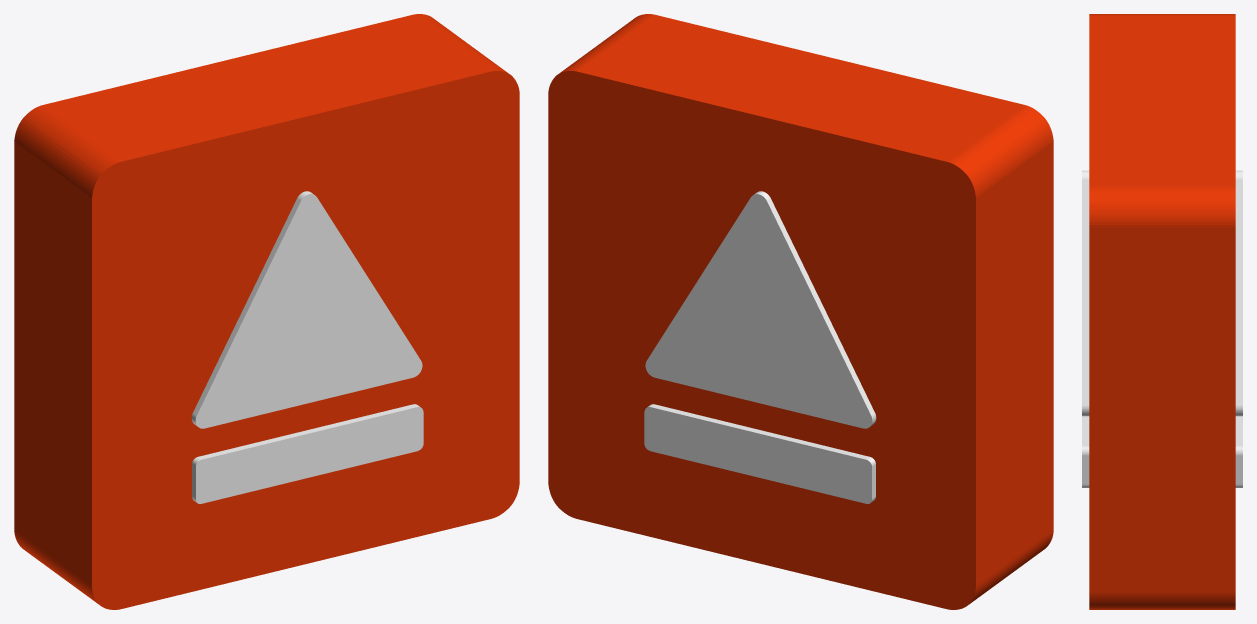
The picture shows the model from 3 angles, left to right: view 1: azimuth 30°, elevation 25°; view 2: azimuth 150°, elevation 25°; view 3: azimuth 270°, elevation 25°; orthographic projection. The views are drawn at different scales.
Parts seen in each view (by area): view 1: U+23CF_layer00_obj00, U+23CF_layer01_obj00, U+23CF_layer01_obj01; view 2: U+23CF_layer00_obj00, U+23CF_layer01_obj00, U+23CF_layer01_obj01; view 3: U+23CF_layer00_obj00, U+23CF_layer01_obj00, U+23CF_layer01_obj01.
Part boxes in pixels (<box>): U+23CF_layer00_obj00: <box>14,14,519,609</box>; U+23CF_layer01_obj00: <box>191,191,422,428</box>; U+23CF_layer01_obj01: <box>192,404,423,503</box>; U+23CF_layer00_obj00: <box>548,14,1053,609</box>; U+23CF_layer01_obj00: <box>645,191,876,428</box>; U+23CF_layer01_obj01: <box>644,404,875,503</box>; U+23CF_layer00_obj00: <box>1089,14,1235,609</box>; U+23CF_layer01_obj00: <box>1082,170,1242,416</box>; U+23CF_layer01_obj01: <box>1082,416,1242,487</box>.
Bounding box in the file's own units: 0.3175 × 0.3174 × 0.11.
